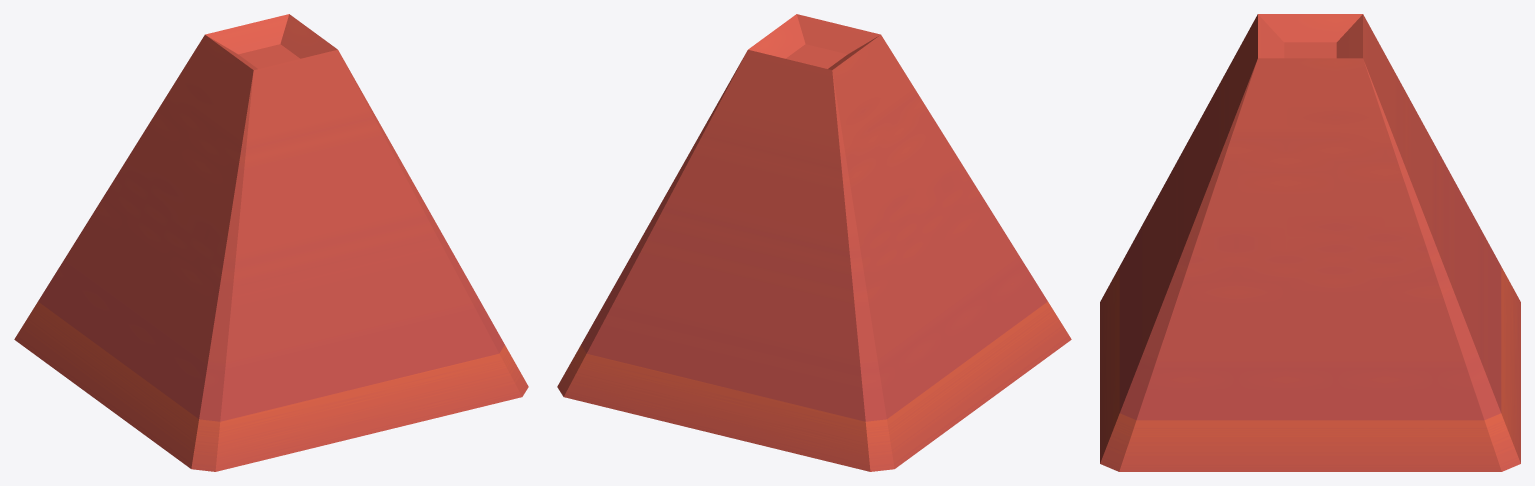
File: roofHighPoint.fbx
3 renders of one model, left to right at view 1: azimuth 30°, elevation 25°; view 2: azimuth 150°, elevation 25°; view 3: azimuth 270°, elevation 25°, orthographic. The views are drawn at different scales.
Parts seen in each view (by area): view 1: roofHighPoint; view 2: roofHighPoint; view 3: roofHighPoint.
Boxes of the visible parts, <box> form: roofHighPoint: <box>14,14,528,471</box>; roofHighPoint: <box>557,14,1071,471</box>; roofHighPoint: <box>1100,14,1520,471</box>.
Size of the model in its own units: 1.1 by 1.1 by 1.
